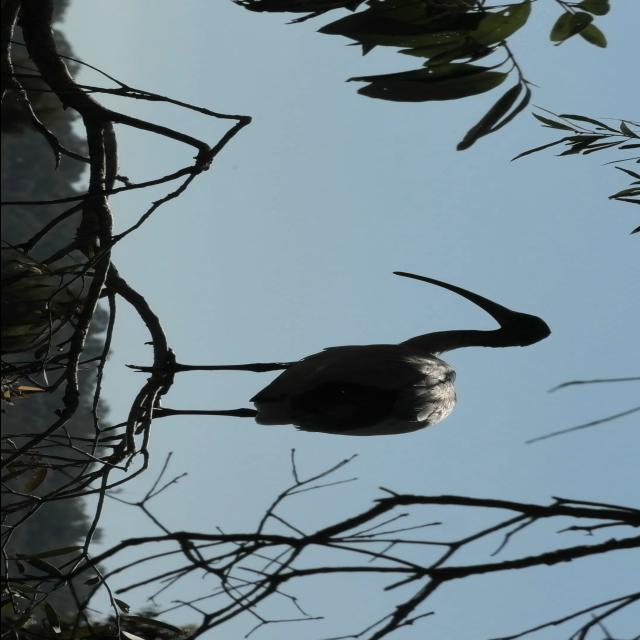Birds-Ibis: (94, 269, 557, 446)
